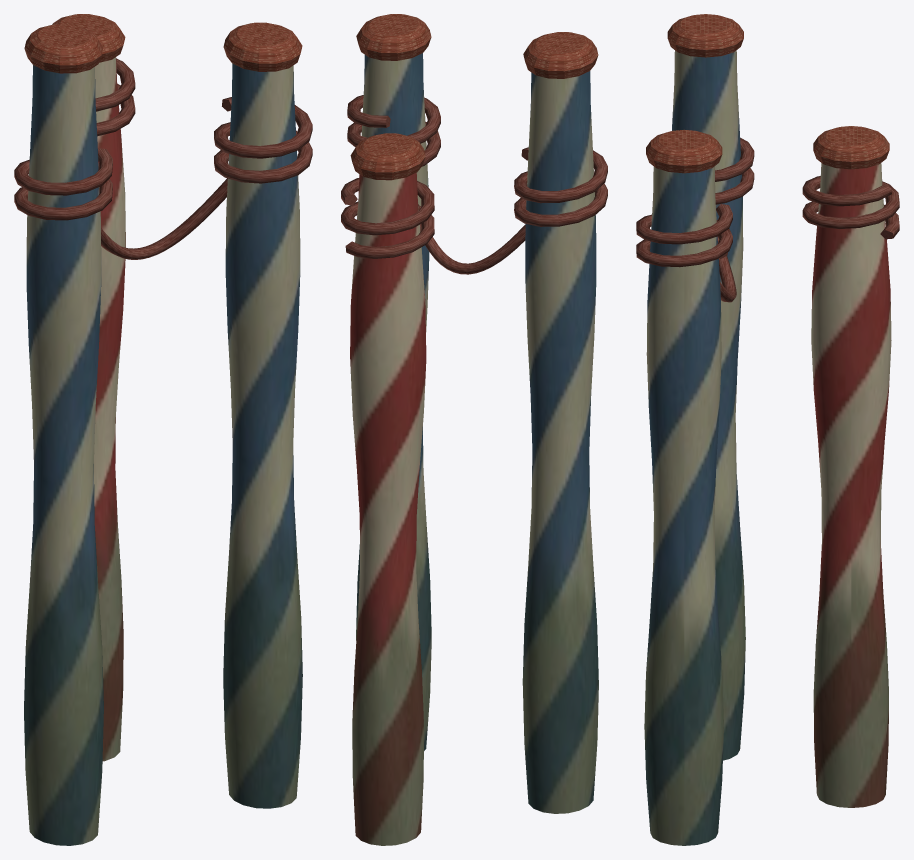
The model's file is venice_pali_cluster.glb.
The picture shows the model from 3 angles, left to right: view 1: azimuth 30°, elevation 25°; view 2: azimuth 150°, elevation 25°; view 3: azimuth 270°, elevation 25°; orthographic projection. The views are drawn at different scales.
Parts seen in each view (by area): view 1: venice_pali_cluster; view 2: venice_pali_cluster; view 3: venice_pali_cluster.
Part boxes in pixels (<box>): venice_pali_cluster: <box>14,14,312,845</box>; venice_pali_cluster: <box>341,14,607,845</box>; venice_pali_cluster: <box>636,14,899,845</box>.
Bounding box in the file's own units: 1.35 × 3.8 × 1.25.
Materials: 1 (1 with a texture image).
